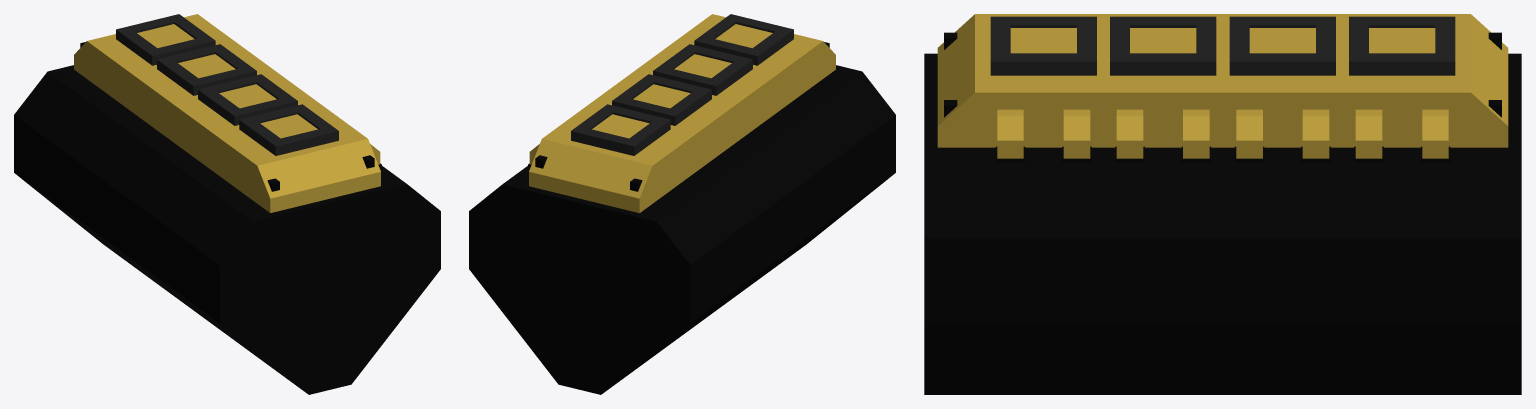
The model's file is bluebox.obj.
3 renders of one model, left to right at view 1: azimuth 30°, elevation 25°; view 2: azimuth 150°, elevation 25°; view 3: azimuth 270°, elevation 25°, orthographic. The views are drawn at different scales.
Visible parts, largest first — view 1: cube, atronoff; view 2: cube, atronoff; view 3: cube, atronoff.
Part boxes in pixels (<box>): cube: <box>14,14,440,394</box>; atronoff: <box>137,24,380,164</box>; cube: <box>469,14,895,394</box>; atronoff: <box>529,24,772,164</box>; cube: <box>924,14,1521,394</box>; atronoff: <box>997,28,1448,158</box>.
Bounding box in the file's own units: 0.5052 × 0.5108 × 0.8119.
